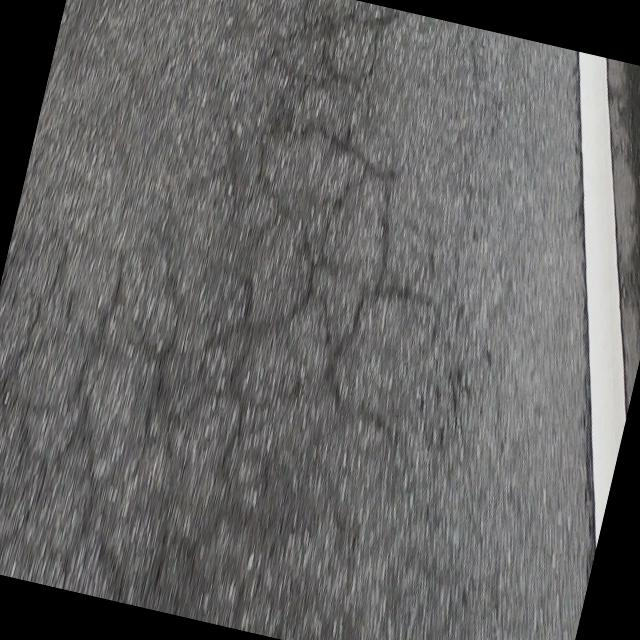Retak-Buaya: (0, 9, 439, 625)
